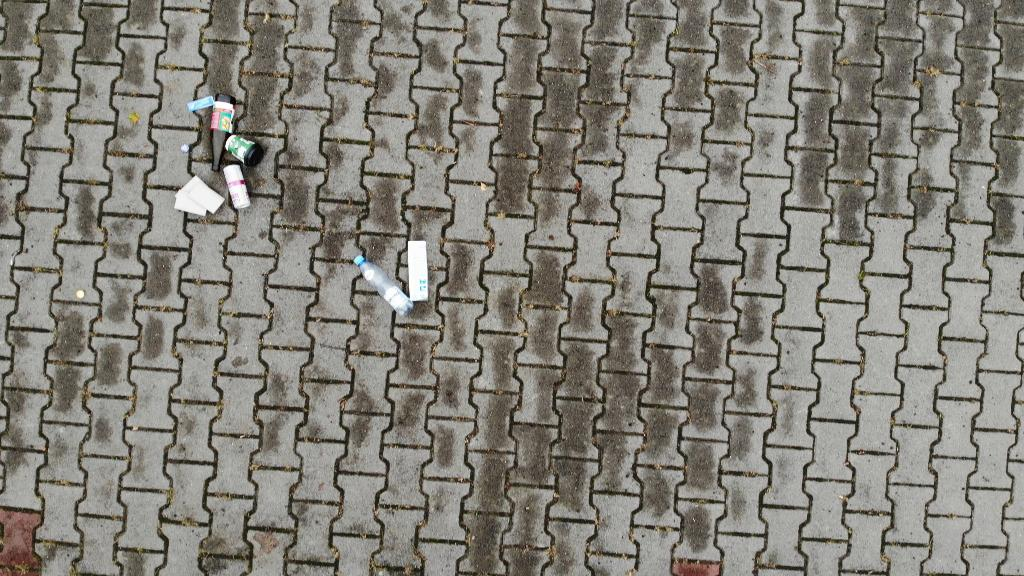garbage: (354, 254, 412, 323), (205, 92, 238, 176), (170, 175, 226, 223), (404, 235, 431, 305), (223, 161, 255, 212)
